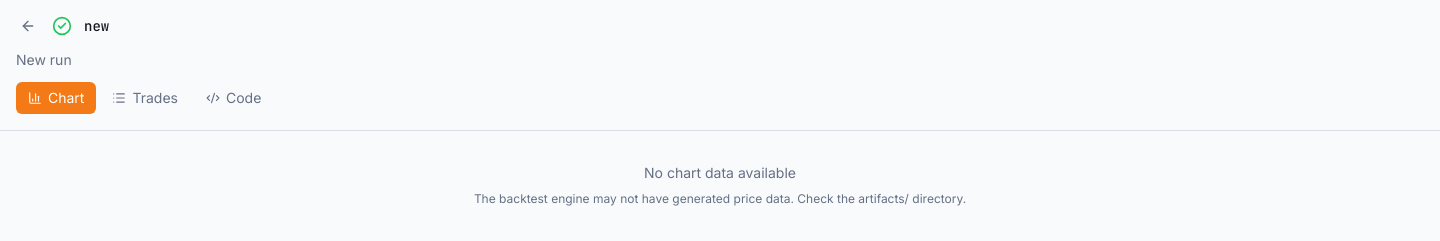
RunDetail page › does not let an older route load replace the current run or code
expect the text "New run" is shown: met, box [16,51,72,68]
Click the button "Code": click(234, 98) [194,82,273,114]
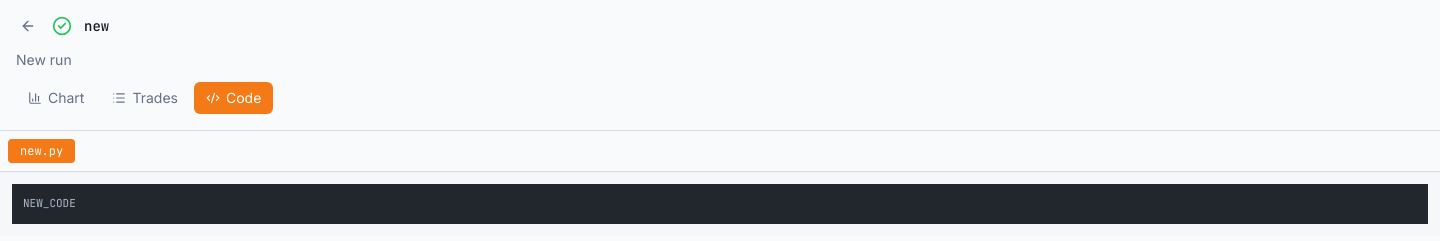
expect the text "NEW_CODE" is shown: met, box [12,184,1428,224]
